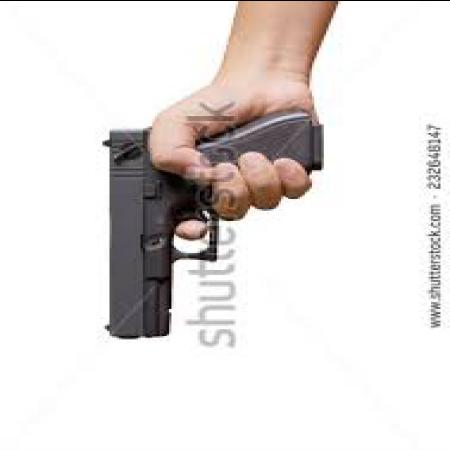Pistol: (102, 108, 322, 344)
